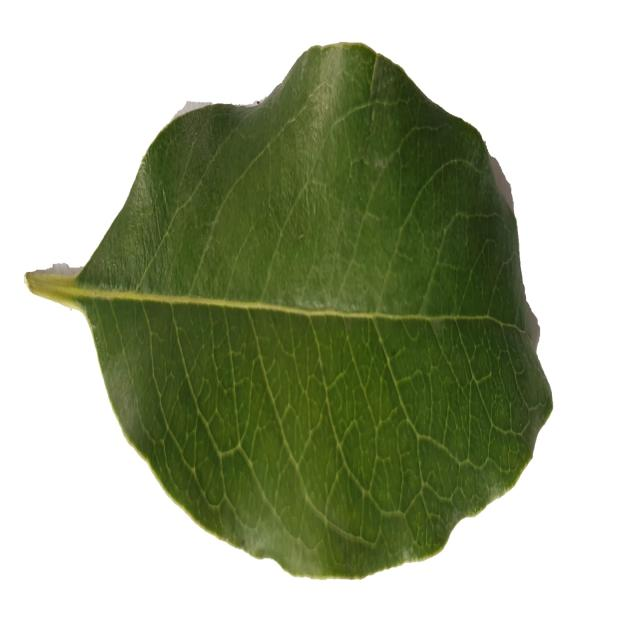Medicinal-Sandalwood: (24, 43, 554, 570)
